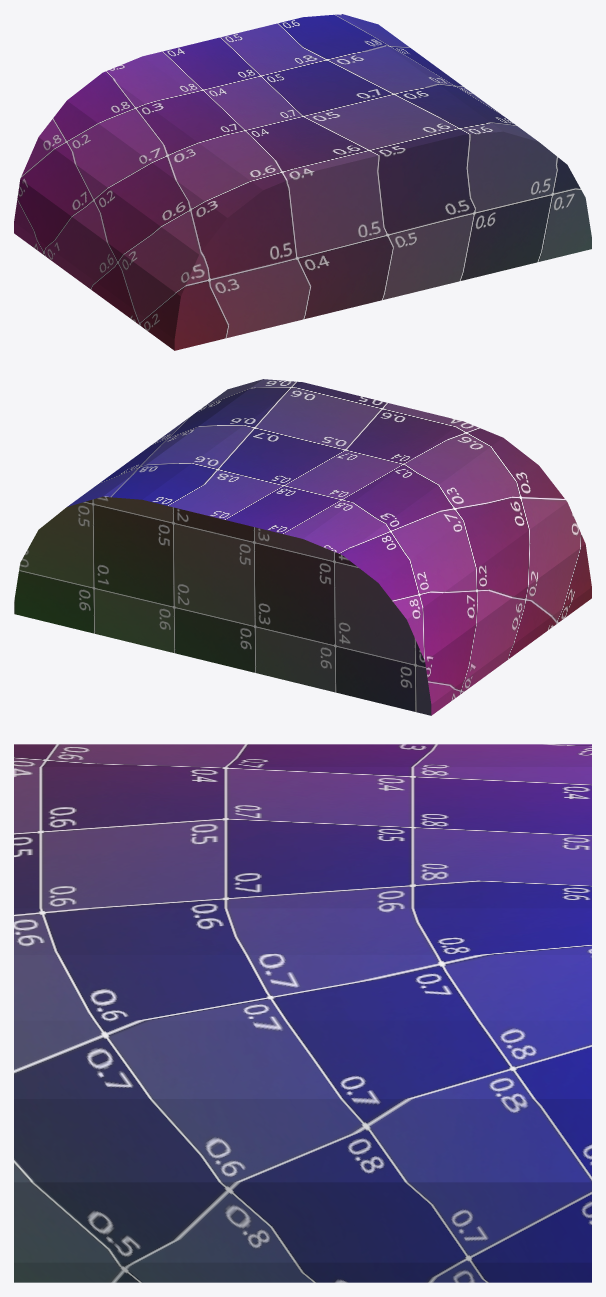
File: paddle_box.glb
3 renders of one model, top to bottom at view 1: azimuth 30°, elevation 25°; view 2: azimuth 150°, elevation 25°; view 3: azimuth 270°, elevation 25°, orthographic. The views are drawn at different scales.
Parts seen in each view (by area): view 1: Paddle; view 2: Paddle; view 3: Paddle.
Boxes of the visible parts, x1,y1,x2,y2 form: Paddle: (14,14,591,350); Paddle: (14,379,591,715); Paddle: (14,744,591,1282).
Size of the model in its own units: 3 by 1 by 2.
1 material, 1 textured.
